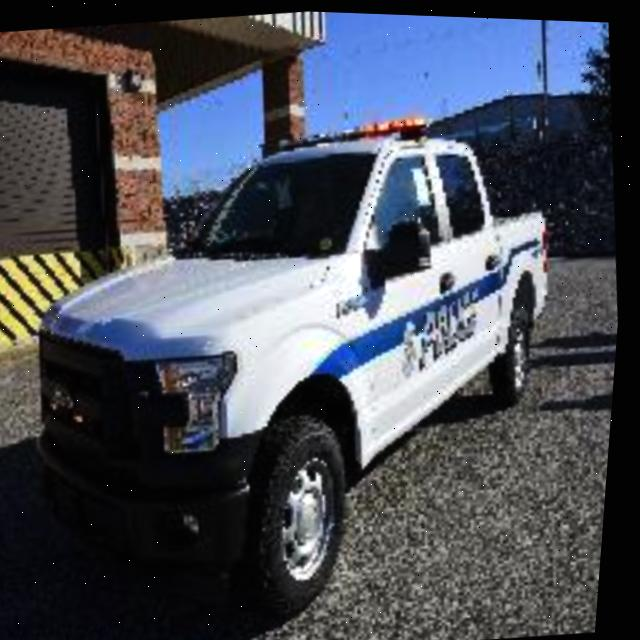emergency: (39, 91, 591, 605)
